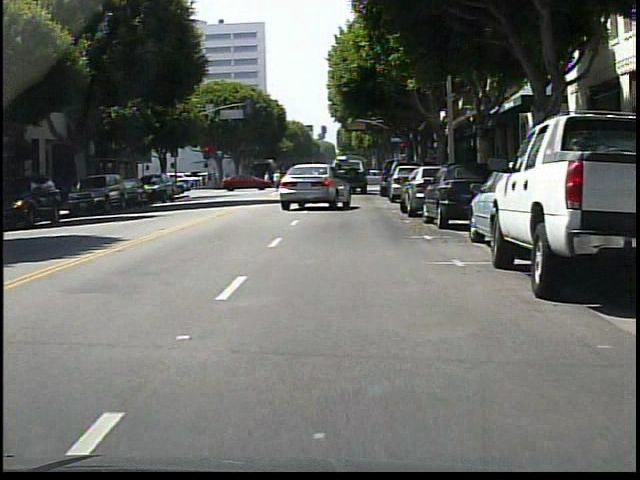person: (273, 170, 284, 193), (295, 167, 304, 193), (268, 172, 269, 190)
